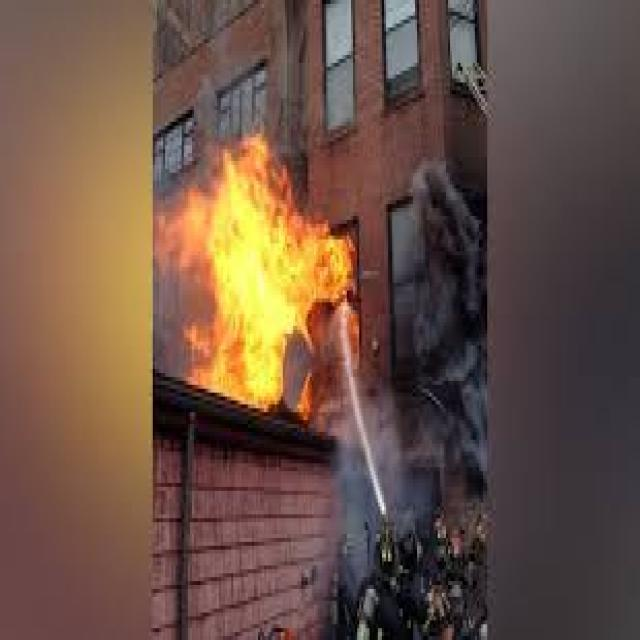Fire: (154, 133, 358, 422)
Smoke: (409, 158, 486, 464)
